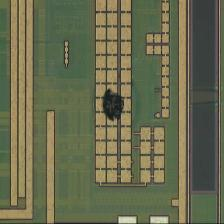PARTICLE: (102, 87, 129, 124)
